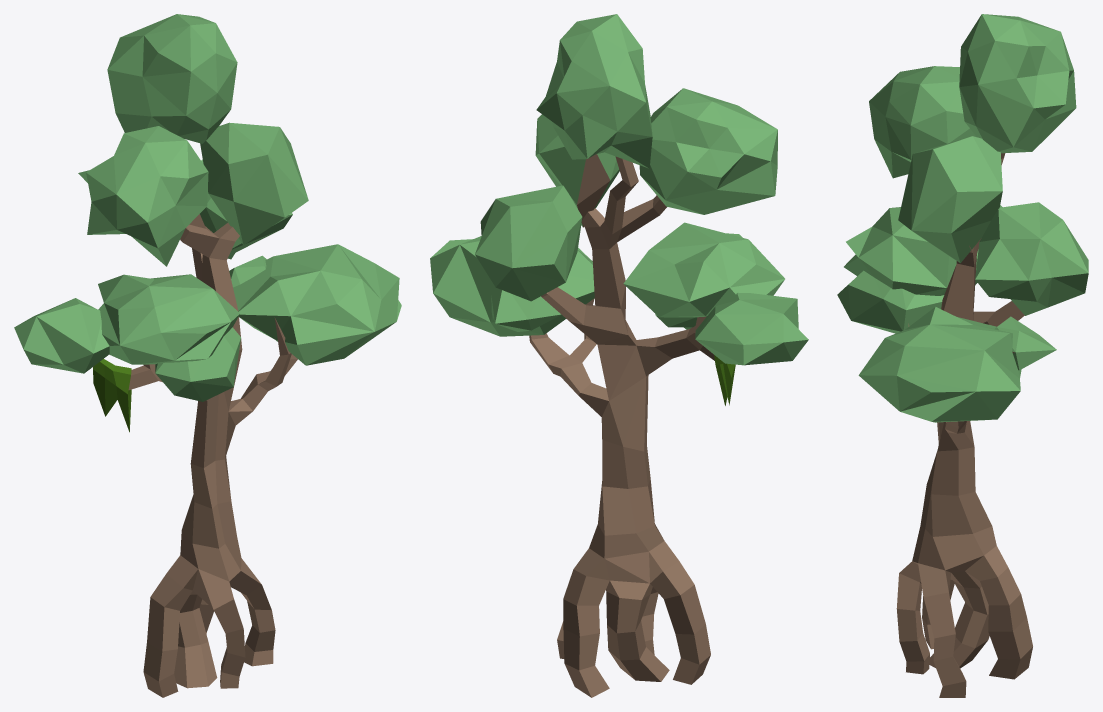
The model's file is swamp_trees3.fbx.
3 views of the same model, side by side, from view 1: azimuth 30°, elevation 25°; view 2: azimuth 150°, elevation 25°; view 3: azimuth 270°, elevation 25° (orthographic). The views are drawn at different scales.
Visible parts, largest first — view 1: Cylinder.002, Cylinder.004, Cylinder.001; view 2: Cylinder.002, Cylinder.004, Cylinder.001; view 3: Cylinder.002, Cylinder.004.
Part boxes in pixels (x1=…): Cylinder.002: x1=14, y1=14, x2=401, y2=401; Cylinder.004: x1=93, y1=214, x2=297, y2=697; Cylinder.001: x1=93, y1=359, x2=131, y2=432; Cylinder.002: x1=430, y1=14, x2=808, y2=365; Cylinder.004: x1=529, y1=154, x2=714, y2=697; Cylinder.001: x1=714, y1=355, x2=735, y2=405; Cylinder.002: x1=837, y1=14, x2=1088, y2=422; Cylinder.004: x1=896, y1=153, x2=1032, y2=697.
Bounding box in the file's own units: 503 × 848 × 296.
